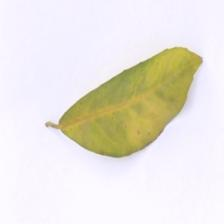greening: (39, 41, 207, 163)
